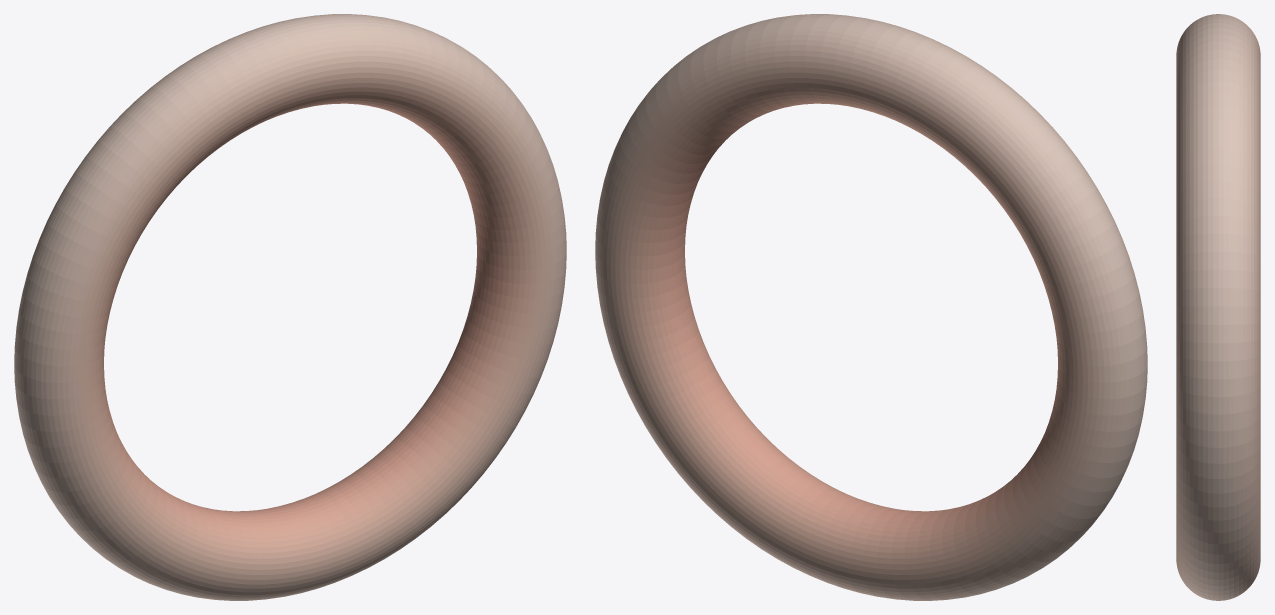
3 views of the same model, side by side, from view 1: azimuth 30°, elevation 25°; view 2: azimuth 150°, elevation 25°; view 3: azimuth 270°, elevation 25° (orthographic). The views are drawn at different scales.
Visible parts, largest first — view 1: world; view 2: world; view 3: world.
Boxes of the visible parts, x1,y1,x2,y2 form: world: [14, 14, 566, 600]; world: [595, 14, 1147, 600]; world: [1176, 14, 1260, 600].
Bounding box in the file's own units: 19.47 × 19.47 × 2.79.
